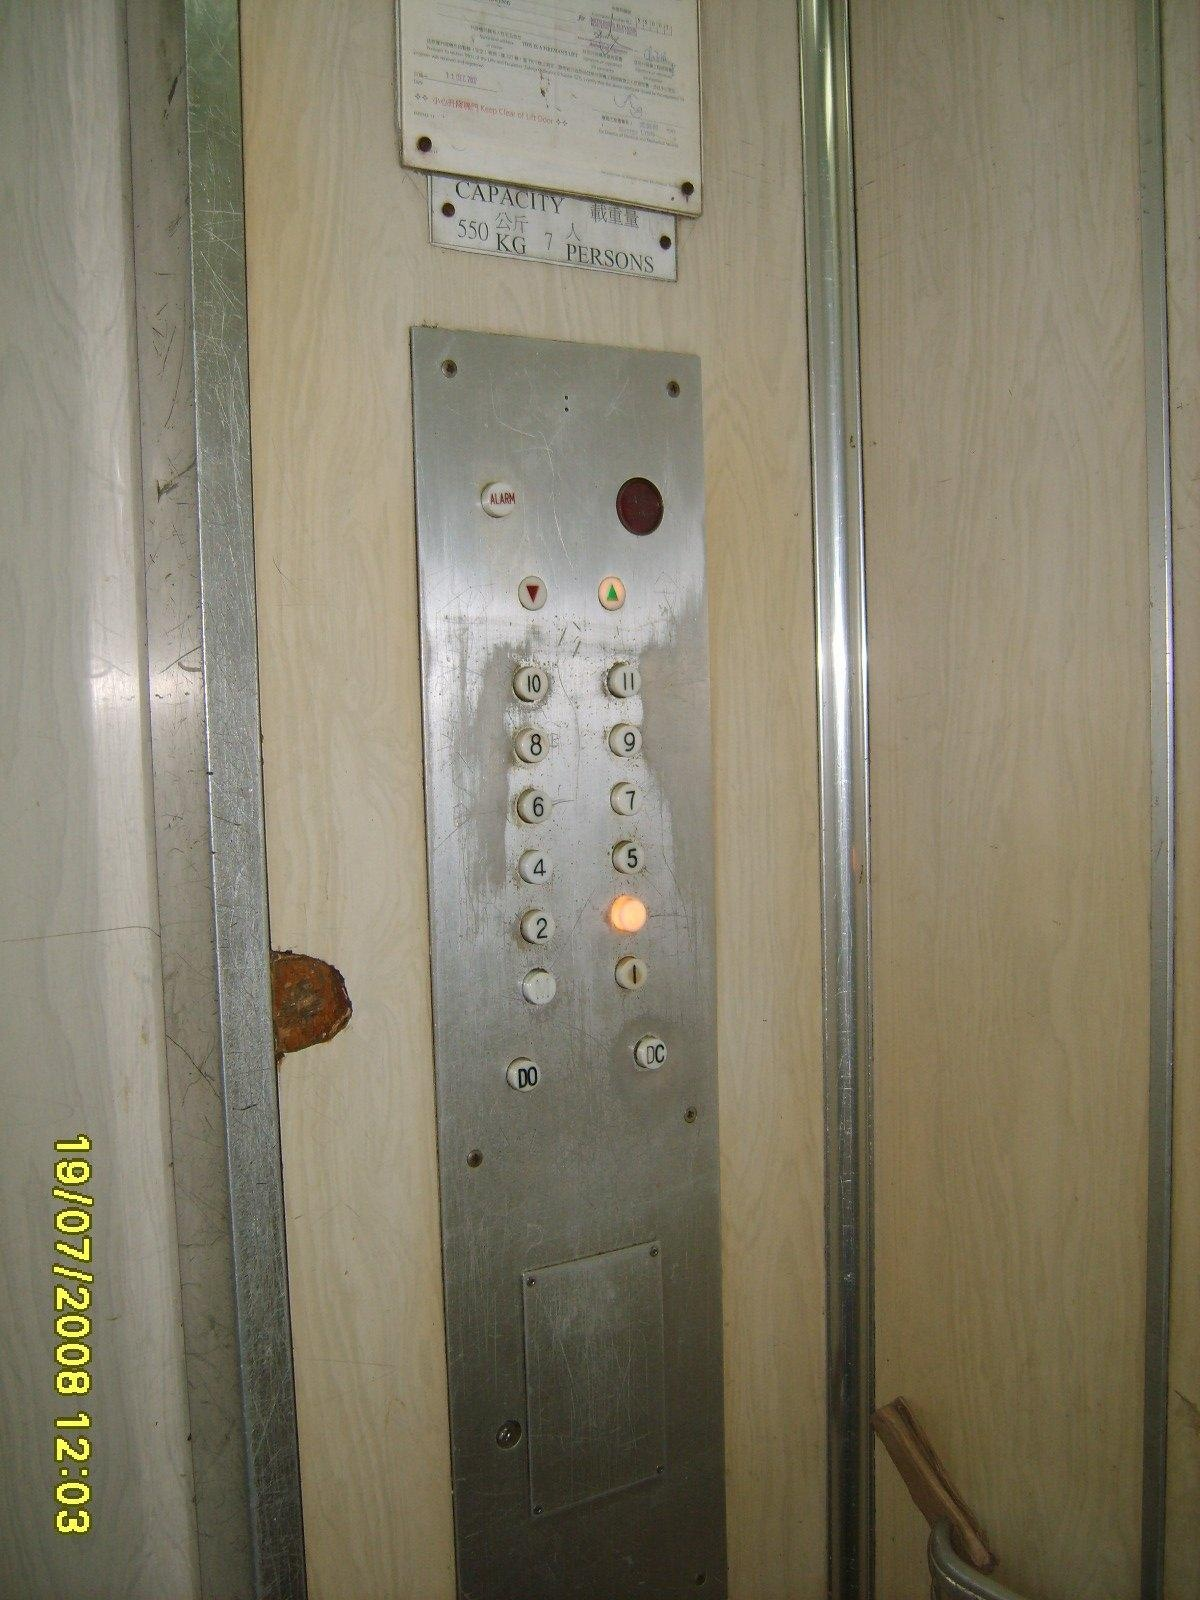1: (611, 952, 652, 995)
10: (511, 664, 551, 706)
11: (604, 660, 645, 702)
2: (518, 906, 558, 947)
4: (516, 845, 557, 887)
5: (609, 837, 650, 878)
6: (514, 785, 555, 826)
7: (606, 779, 647, 820)
8: (512, 724, 553, 766)
9: (606, 719, 647, 761)
DC: (630, 1031, 671, 1073)
DO: (504, 1054, 545, 1096)
M: (519, 966, 560, 1008)
down: (512, 573, 553, 615)
empty: (611, 471, 671, 540), (608, 892, 649, 934)
text_alarm: (479, 476, 521, 523)
up: (591, 573, 632, 615)
